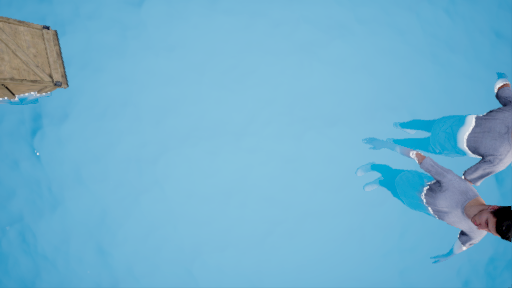person: (362, 74, 512, 260)
